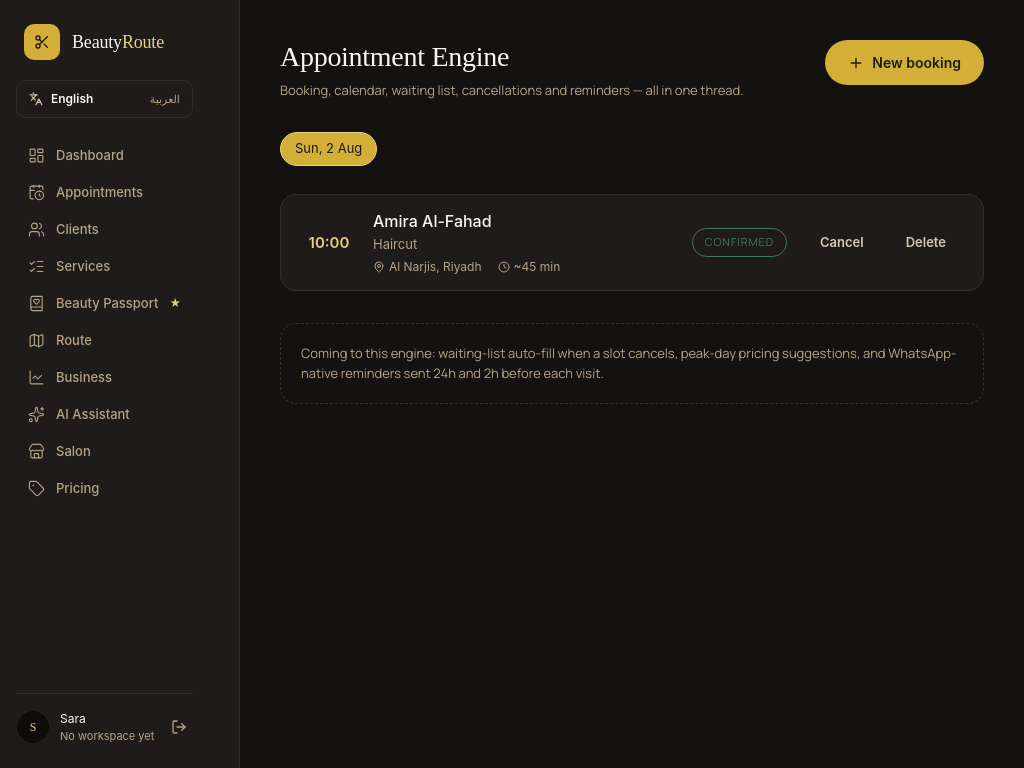
Scenario: Appointments page › marks an appointment as cancelled and reflects the new status
This screenshot has width=1024, height=768.
Check: the text "Amira Al-Fahad" is shown, box top-left (373, 211), bottom-right (492, 231)
Click the button "Cancel": (842, 243) top-left (803, 224), bottom-right (881, 261)
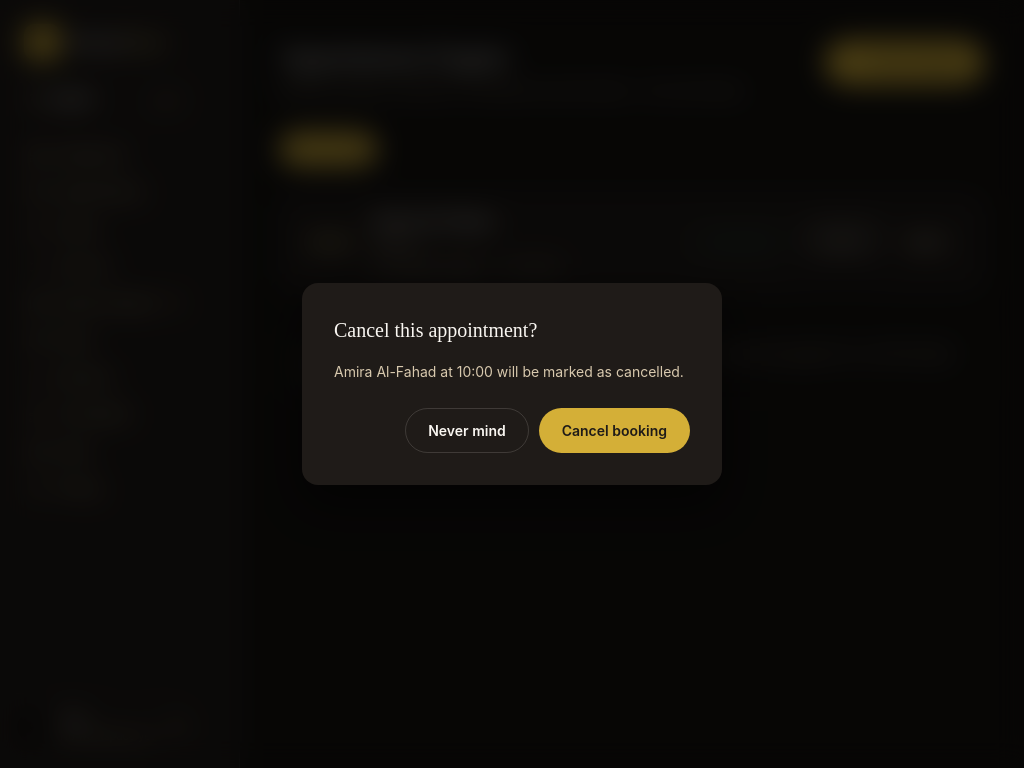
Click the button "Cancel booking": (614, 430) top-left (539, 408), bottom-right (690, 453)
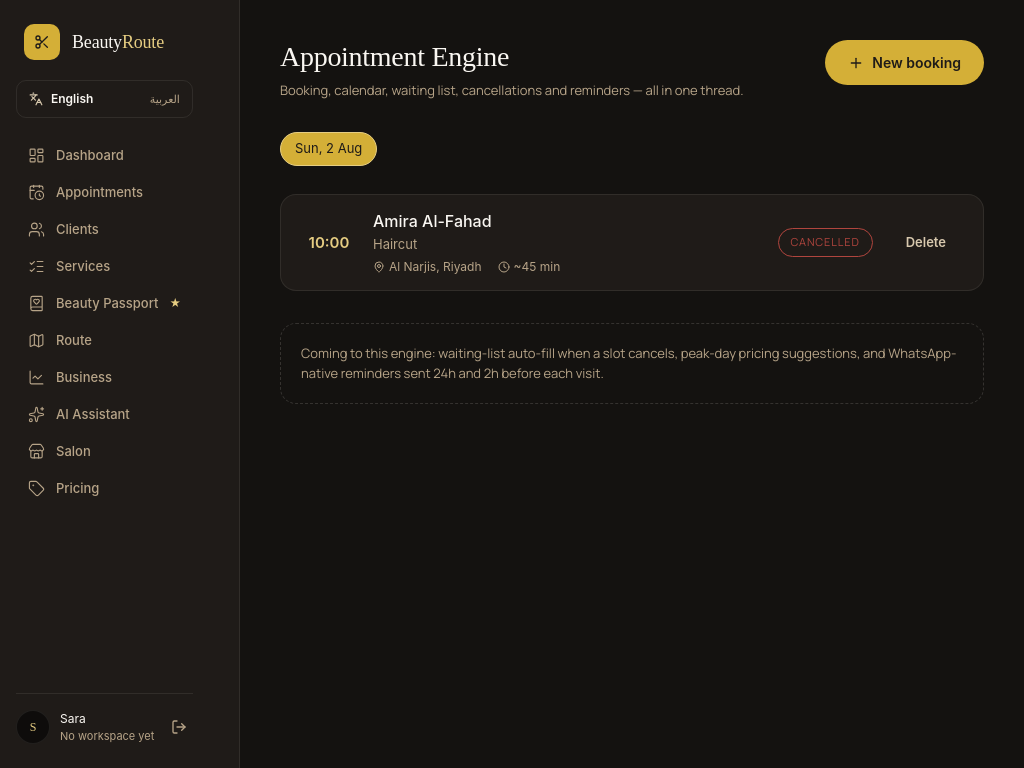
Check: the text "cancelled" is shown, box top-left (778, 228), bottom-right (873, 257)
